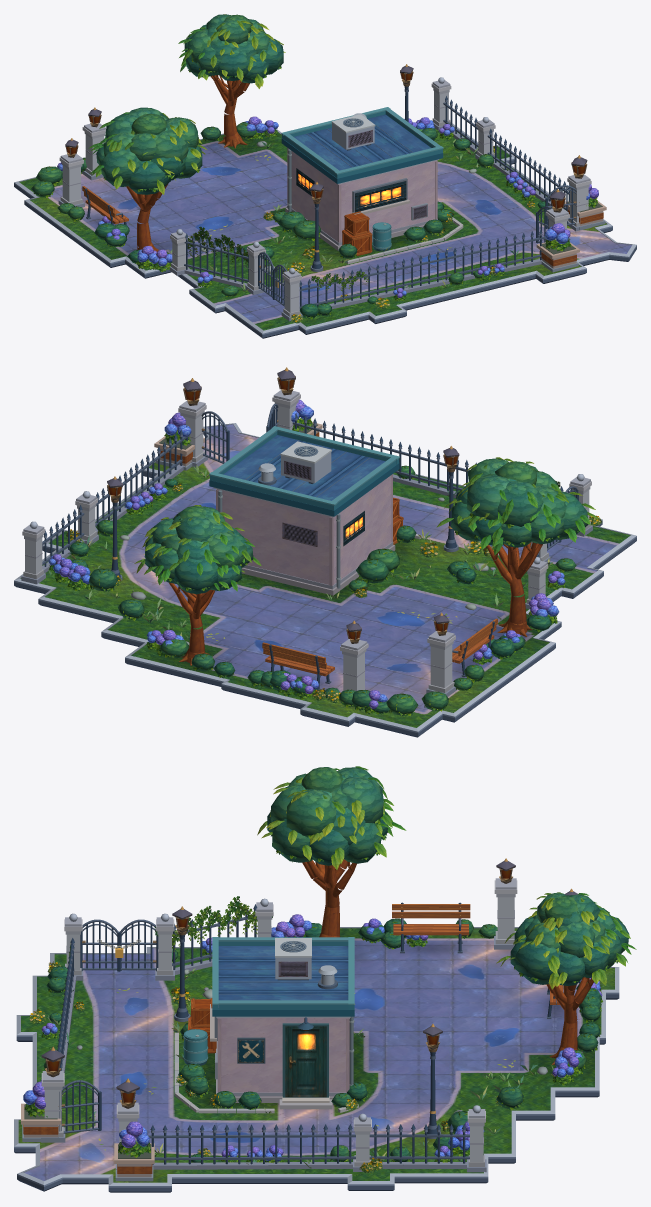
File: moonlit-park.glb
3 renders of one model, top to bottom at view 1: azimuth 30°, elevation 25°; view 2: azimuth 150°, elevation 25°; view 3: azimuth 270°, elevation 25°, orthographic. The views are drawn at different scales.
Visible parts, largest first — view 1: Stepped island and wet garden paths, Iron railings and open entrance gates, Hydrangea beds and climbing ivy, Park keeper's lodge, West linden, Teal parapet and rooftop machinery, North linden, Benches and maintenance supplies, Terrace lanterns and promenade lights, Meadow grass, stones and fallen leaves; view 2: Stepped island and wet garden paths, Hydrangea beds and climbing ivy, Iron railings and open entrance gates, Park keeper's lodge, West linden, Teal parapet and rooftop machinery, North linden, Terrace lanterns and promenade lights, Benches and maintenance supplies, Meadow grass, stones and fallen leaves; view 3: Stepped island and wet garden paths, Iron railings and open entrance gates, Hydrangea beds and climbing ivy, West linden, Park keeper's lodge, Teal parapet and rooftop machinery, North linden, Benches and maintenance supplies, Terrace lanterns and promenade lights, Meadow grass, stones and fallen leaves.
Boxes of the visible parts, bbox=[...] form: Stepped island and wet garden paths: bbox=[14, 122, 636, 338]; Iron railings and open entrance gates: bbox=[169, 77, 591, 321]; Hydrangea beds and climbing ivy: bbox=[31, 116, 598, 323]; Park keeper's lodge: bbox=[285, 148, 439, 250]; West linden: bbox=[88, 107, 206, 251]; Teal parapet and rooftop machinery: bbox=[281, 107, 443, 183]; North linden: bbox=[178, 14, 285, 148]; Benches and maintenance supplies: bbox=[82, 186, 606, 272]; Terrace lanterns and promenade lights: bbox=[58, 64, 413, 271]; Meadow grass, stones and fallen leaves: bbox=[168, 131, 543, 303]; Stepped island and wet garden paths: bbox=[14, 423, 636, 737]; Hydrangea beds and climbing ivy: bbox=[48, 399, 601, 716]; Iron railings and open entrance gates: bbox=[21, 367, 592, 609]; Park keeper's lodge: bbox=[214, 474, 395, 595]; West linden: bbox=[436, 457, 598, 636]; Teal parapet and rooftop machinery: bbox=[209, 426, 399, 516]; North linden: bbox=[134, 505, 261, 665]; Terrace lanterns and promenade lights: bbox=[107, 446, 459, 702]; Benches and maintenance supplies: bbox=[154, 422, 497, 690]; Meadow grass, stones and fallen leaves: bbox=[47, 465, 559, 645]; Stepped island and wet garden paths: bbox=[14, 927, 619, 1192]; Iron railings and open entrance gates: bbox=[41, 898, 486, 1172]; Hydrangea beds and climbing ivy: bbox=[23, 896, 602, 1173]; West linden: bbox=[257, 766, 406, 937]; Park keeper's lodge: bbox=[210, 1004, 354, 1109]; Teal parapet and rooftop machinery: bbox=[212, 937, 354, 1016]; North linden: bbox=[496, 892, 636, 1064]; Benches and maintenance supplies: bbox=[21, 902, 563, 1181]; Terrace lanterns and promenade lights: bbox=[172, 858, 577, 1138]; Meadow grass, stones and fallen leaves: bbox=[47, 961, 554, 1168].
Bounding box in the file's own units: 15.02 × 4.81 × 14.47.
13 materials, 9 textured.
